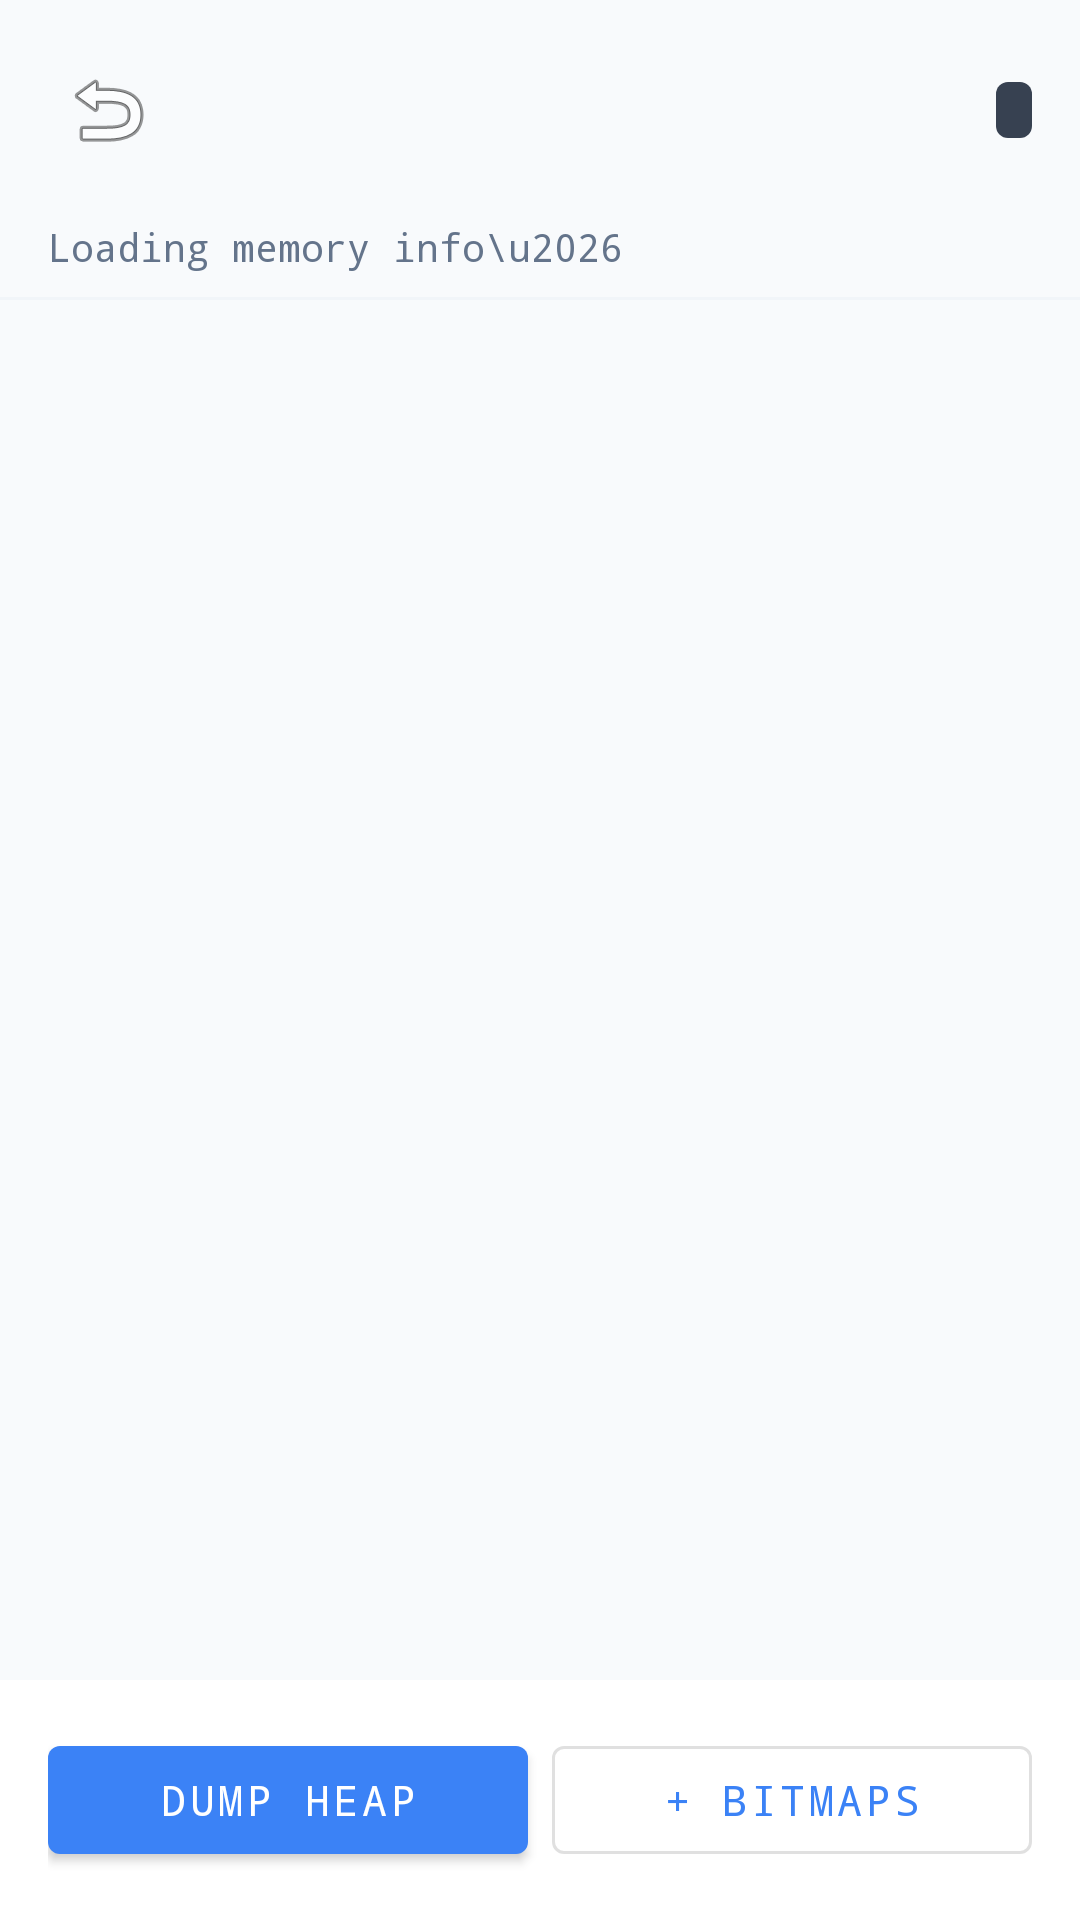

Where to tap for icons on this 1080x1920 app screen, as (x=x, y=y):
Back: (x=109, y=110)
